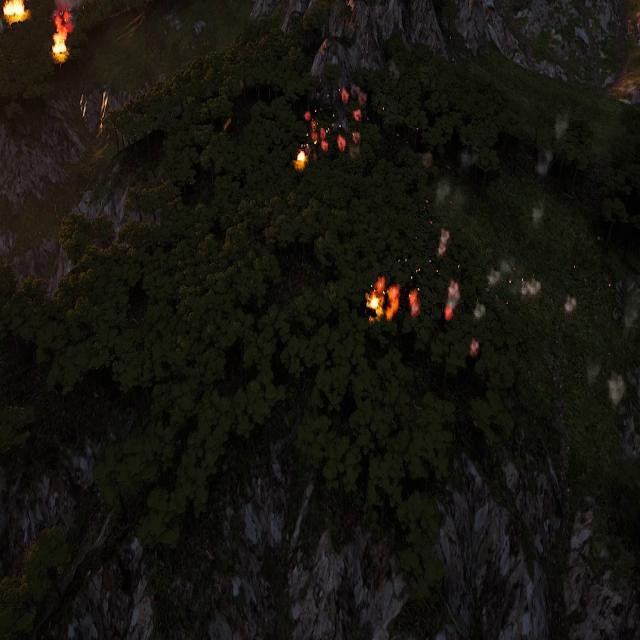fire: (366, 276, 401, 318), (52, 12, 73, 62), (2, 0, 26, 22), (296, 150, 310, 167)
smoke: (427, 150, 473, 262), (304, 80, 368, 154), (608, 372, 628, 410), (444, 280, 461, 324), (489, 260, 511, 288), (522, 279, 541, 298), (410, 286, 420, 321), (565, 295, 577, 318), (475, 306, 485, 322), (472, 341, 478, 358)
